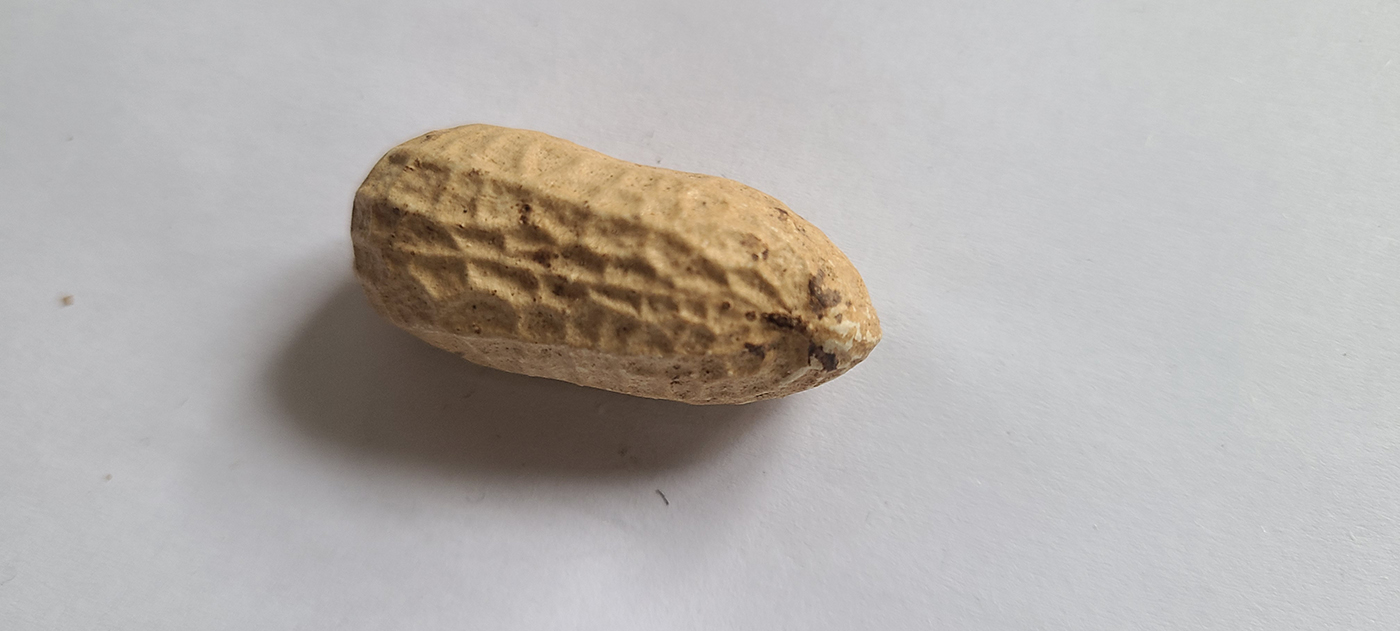h: (351, 123, 883, 406)
